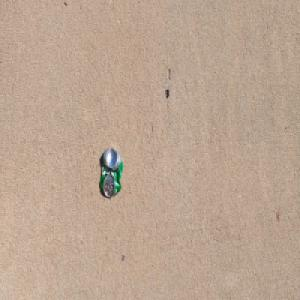SodaCan: (99, 146, 124, 199)
